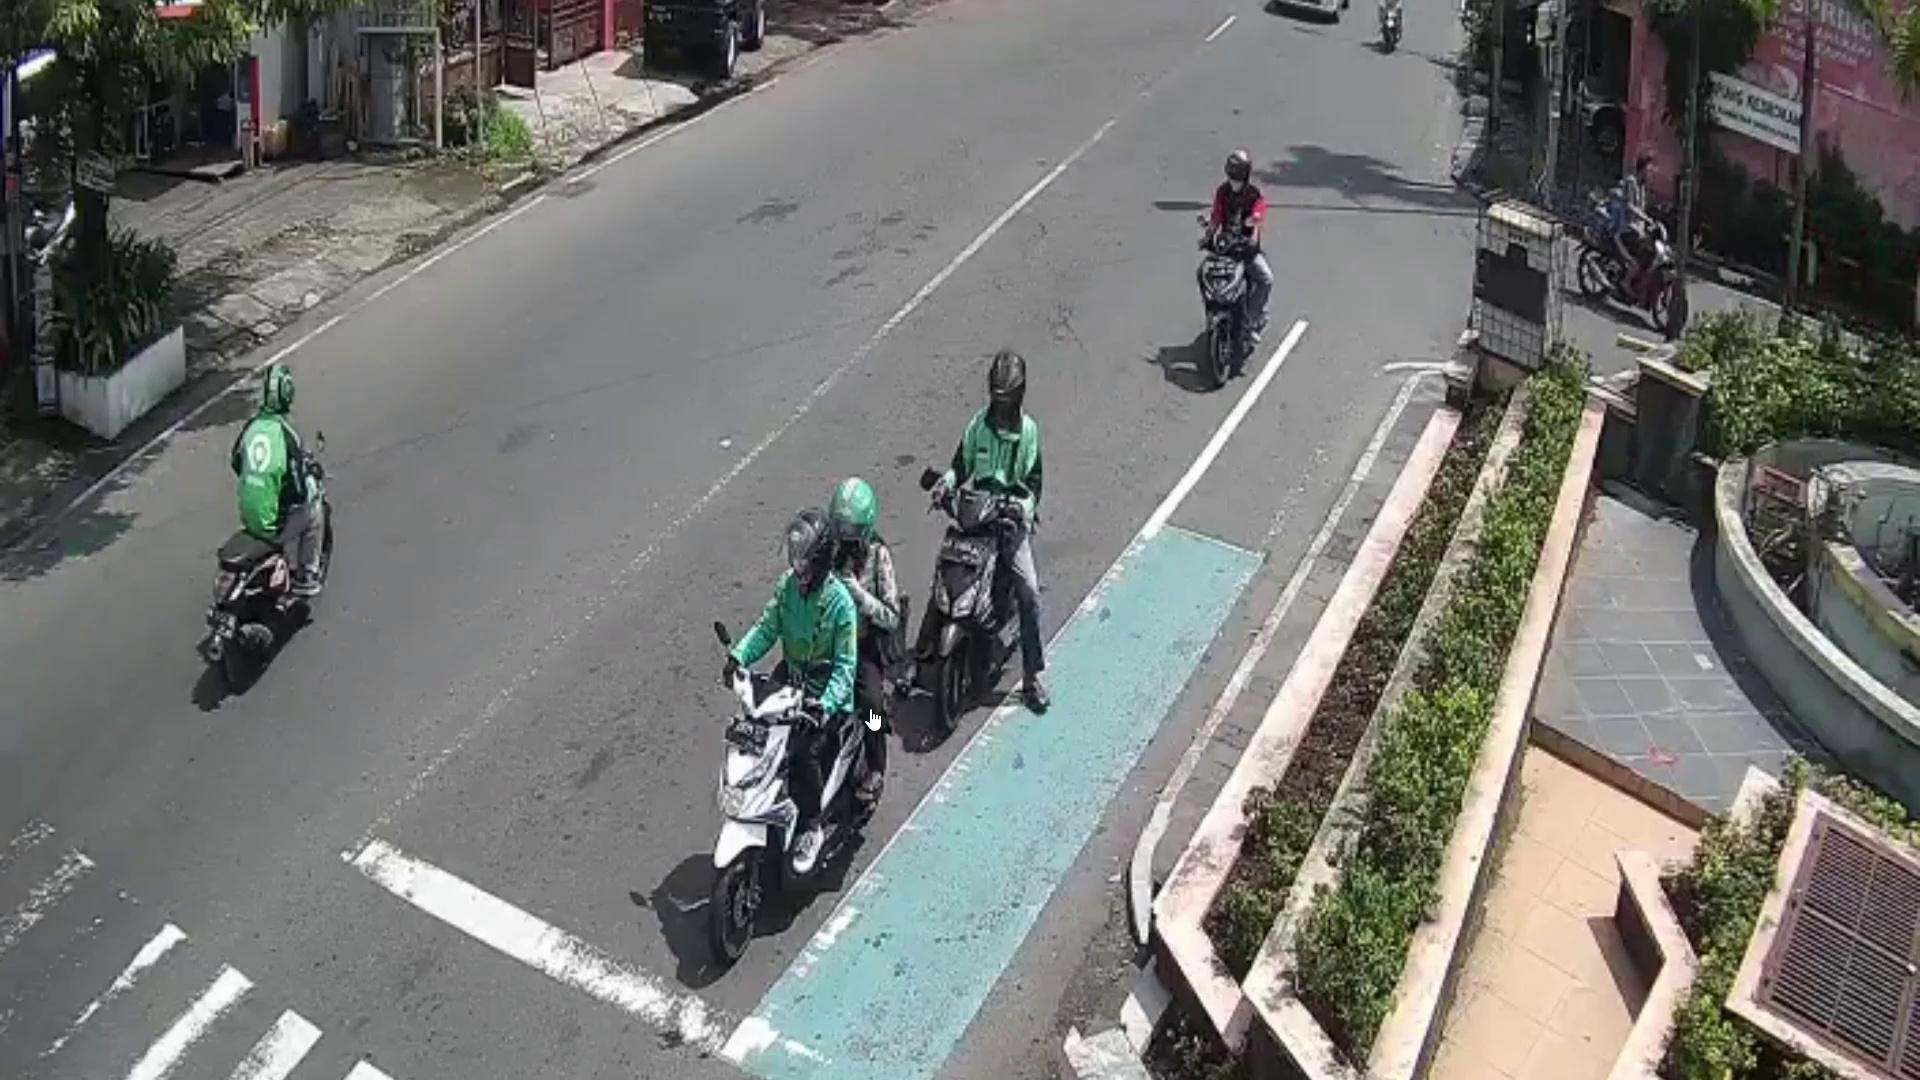motorbike: (707, 665, 865, 956), (208, 459, 332, 688), (928, 484, 1009, 731), (1581, 216, 1684, 336), (1205, 227, 1258, 390)
